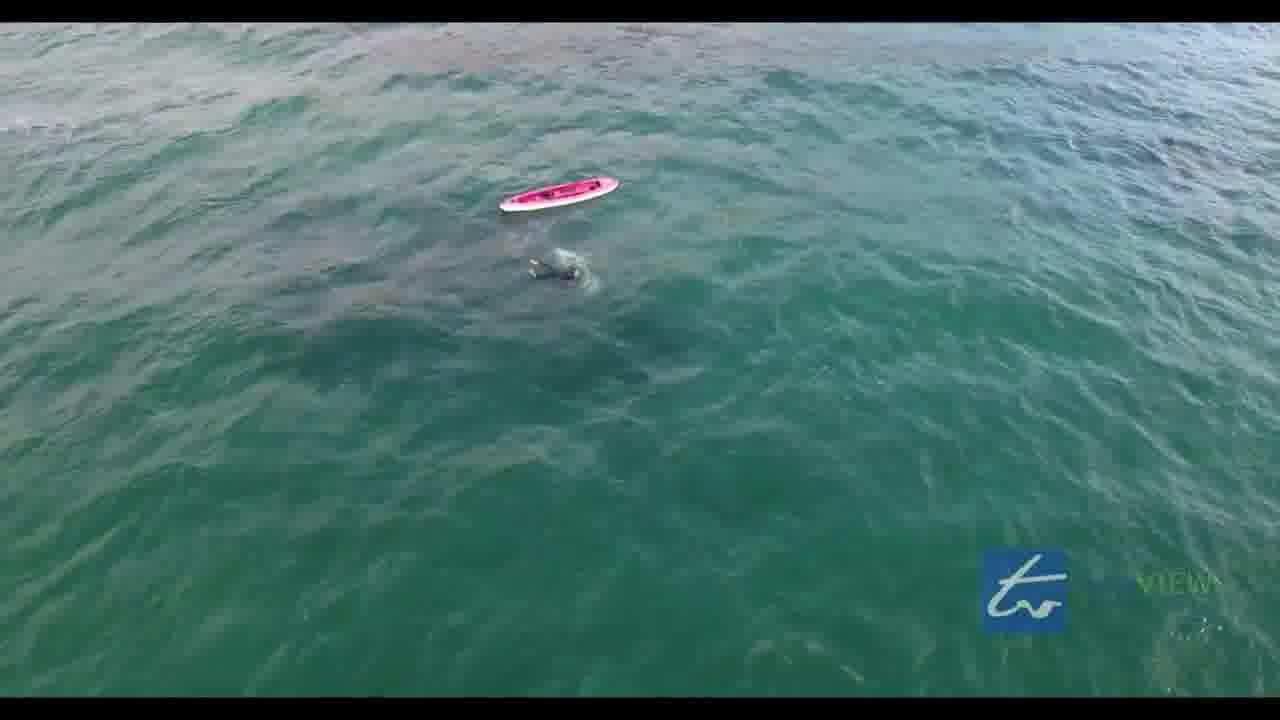swimmer: (520, 248, 582, 291)
